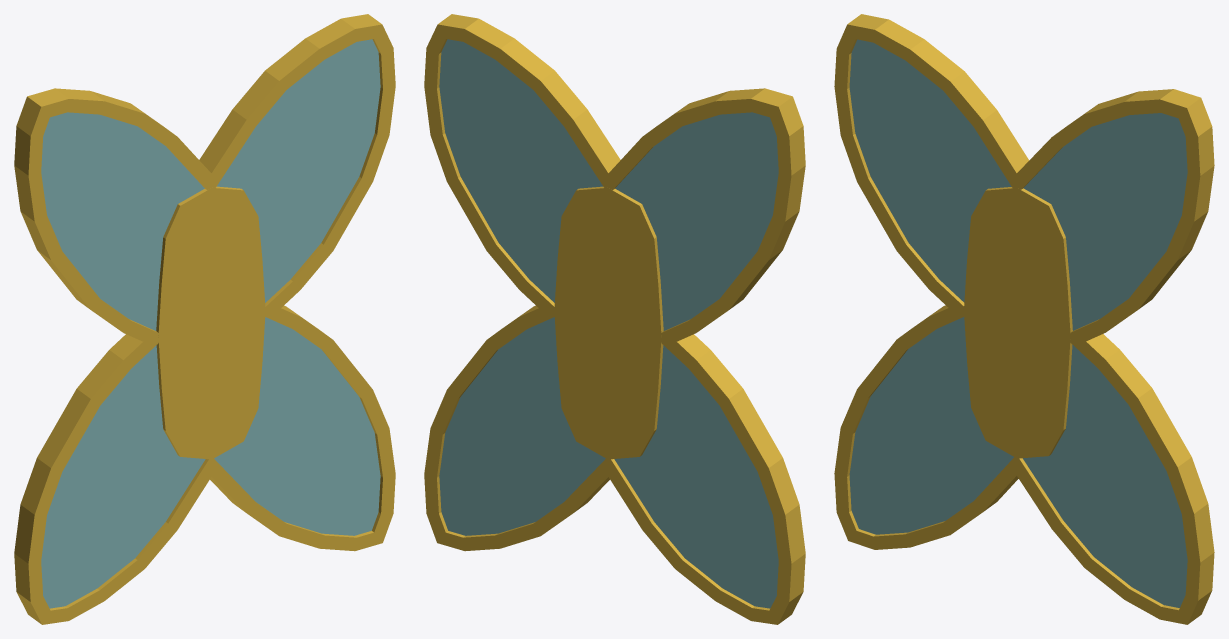
File: guard_insect.glb
3 views of the same model, side by side, from view 1: azimuth 30°, elevation 25°; view 2: azimuth 150°, elevation 25°; view 3: azimuth 330°, elevation 25° (orthographic).
Parts seen in each view (by area): view 1: Guard; view 2: Guard; view 3: Guard.
Boxes of the visible parts, left/top/right/bottom form: Guard: left=14, top=14, right=395, bottom=624; Guard: left=424, top=14, right=805, bottom=624; Guard: left=834, top=14, right=1214, bottom=624.
Bounding box in the file's own units: 0.102 × 0.1386 × 0.00689.
